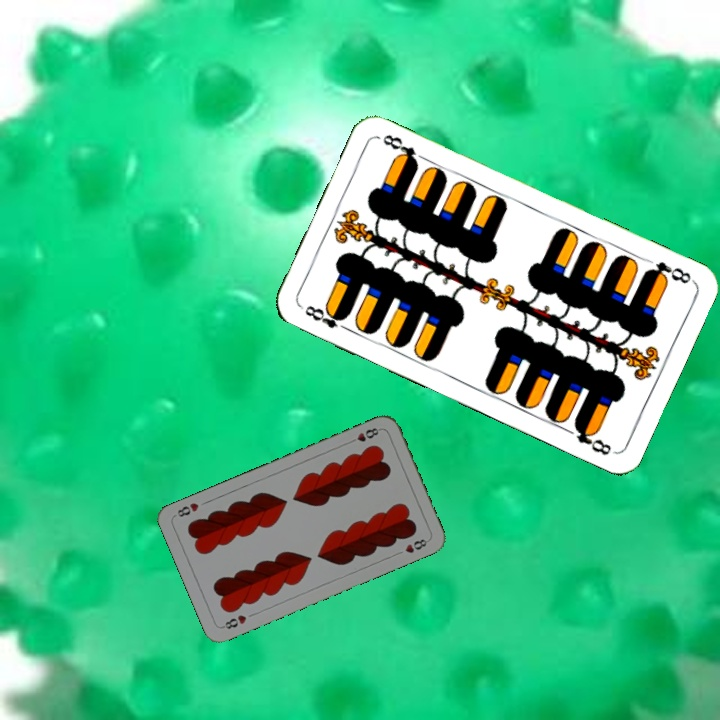E8: (301, 301, 353, 334), (641, 257, 695, 286)
H8: (345, 424, 383, 446), (218, 611, 249, 632)
